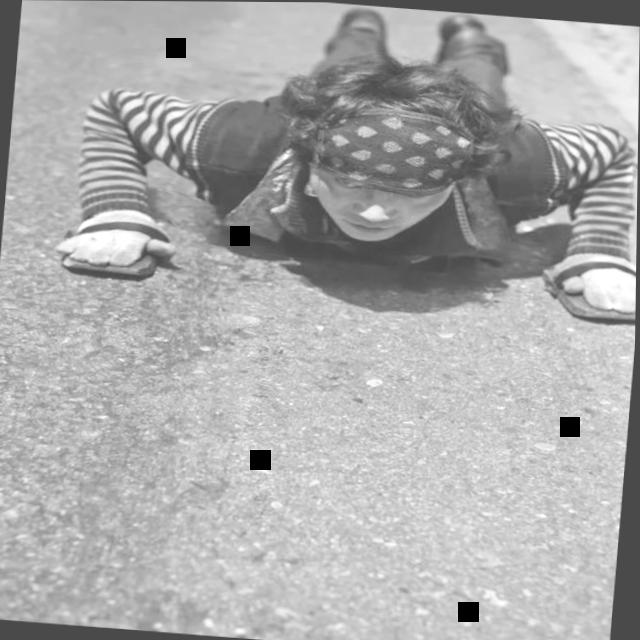Fall-Detected: (47, 0, 640, 327)
